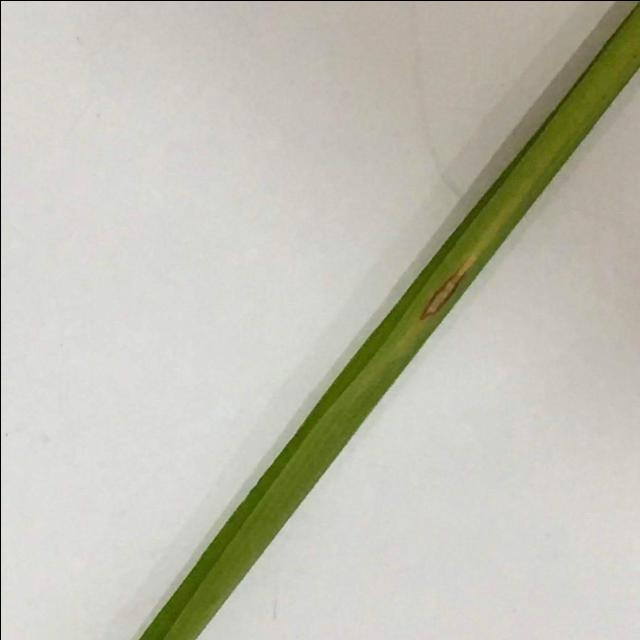Leaf blast: (123, 0, 640, 640)
